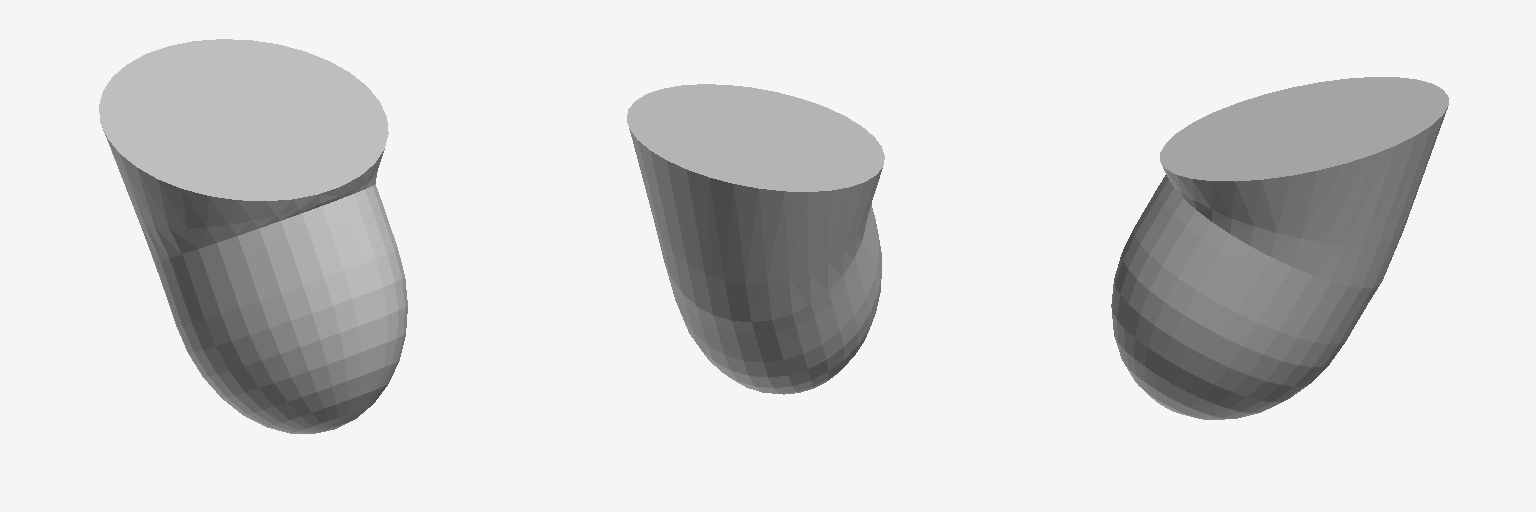
The model's file is LBankle.obj.
3 renders of one model, left to right at view 1: azimuth 30°, elevation 25°; view 2: azimuth 150°, elevation 25°; view 3: azimuth 270°, elevation 25°, orthographic.
Parts seen in each view (by area): view 1: 後ろ足.004; view 2: 後ろ足.004; view 3: 後ろ足.004.
Boxes of the visible parts, <box> form: 後ろ足.004: <box>99,39,407,433</box>; 後ろ足.004: <box>627,84,884,394</box>; 後ろ足.004: <box>1111,77,1448,419</box>.
Size of the model in its own units: 0.2594 by 0.3208 by 0.3246.